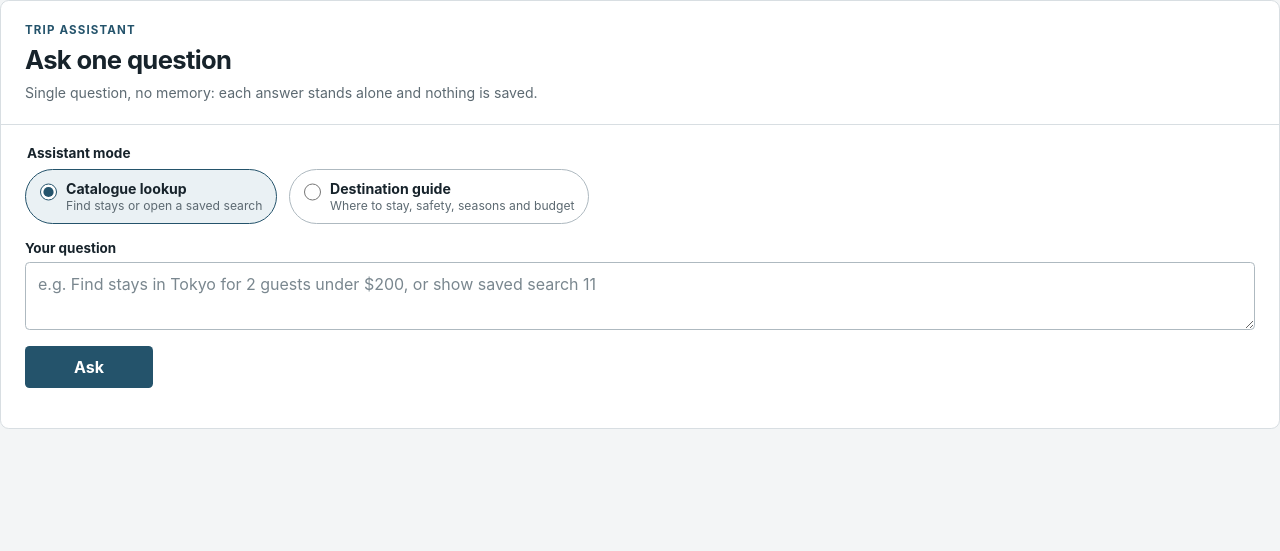
Scenario: AssistantPanel › shows a distinct insufficient-context state without citations
Step 1. Click the radio button labelled "Destination guide Where to stay, safety, seasons and budget" → (312, 192), box [304,183,321,201]
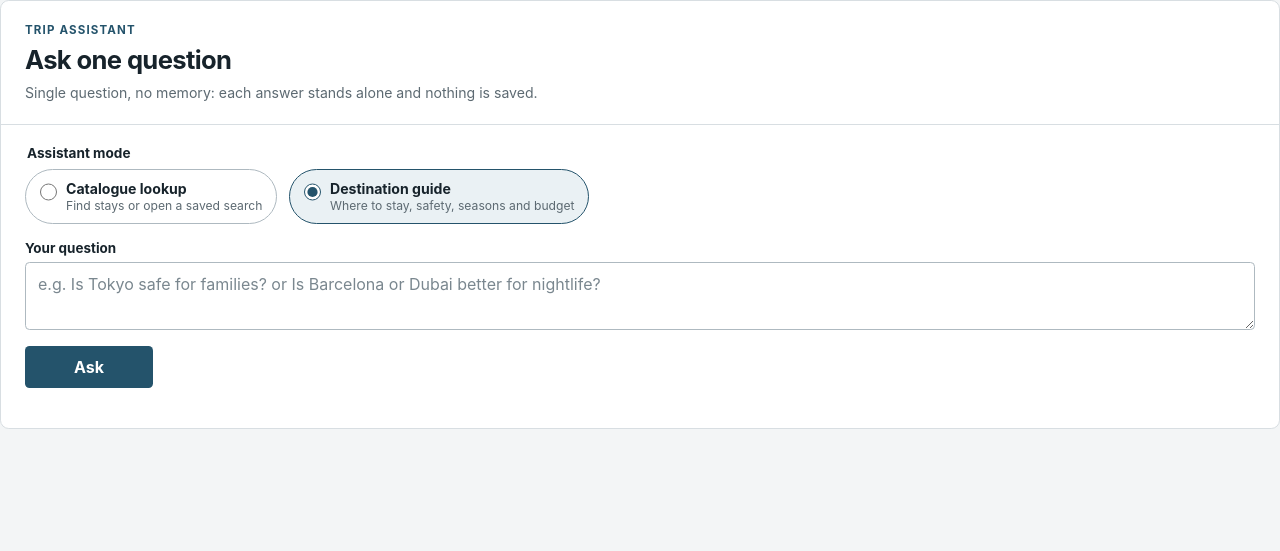
Step 2. Replace the text in the text box with id "assistant-question" with "Tell me about Bali" → (640, 296), box [25,262,1255,330]
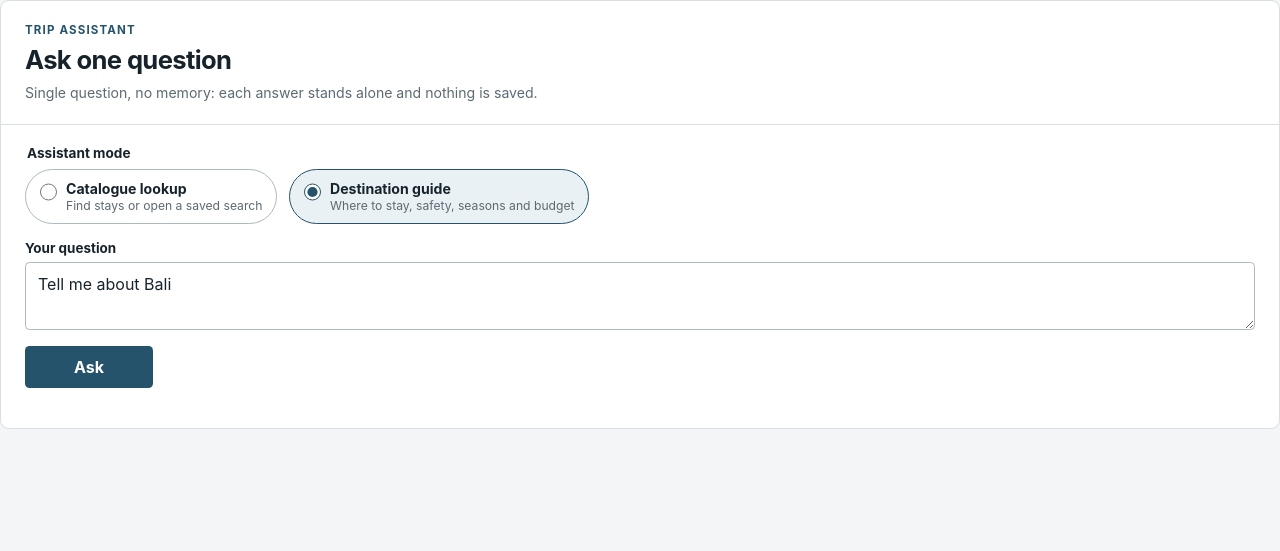
Step 3. Click the button with class "assistant-submit" → (89, 367), box [25,346,153,388]
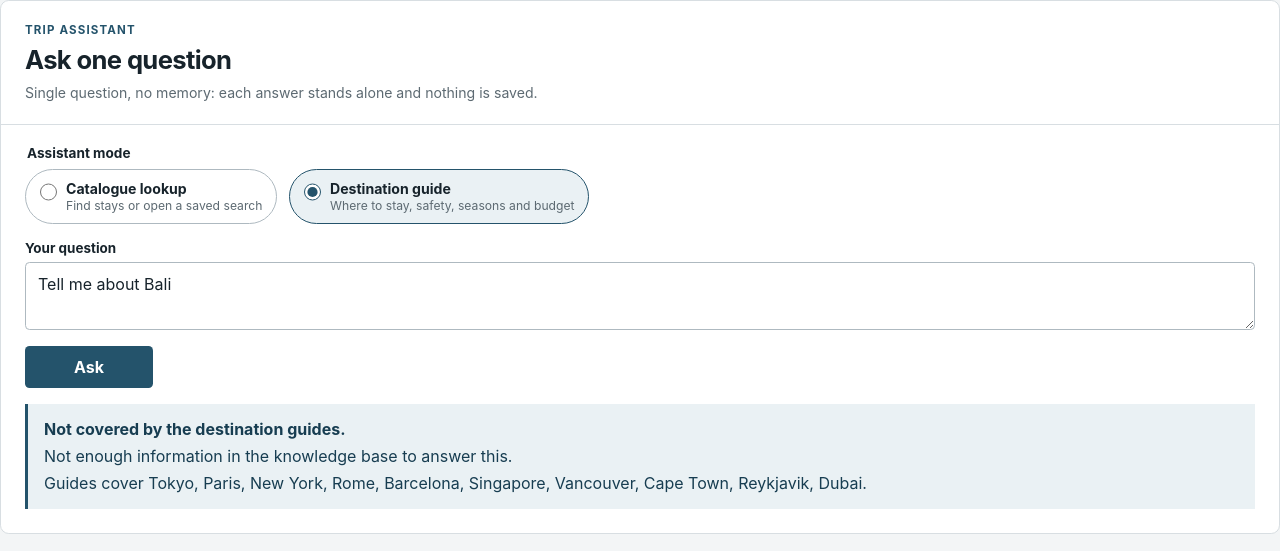
Expected: the element with class "guide-insufficient" shows "Not covered by the destination guides.", [44,419,346,439]
Expected: the element with class "guide-insufficient" shows "Not enough information in the knowledge base", [44,446,512,466]
